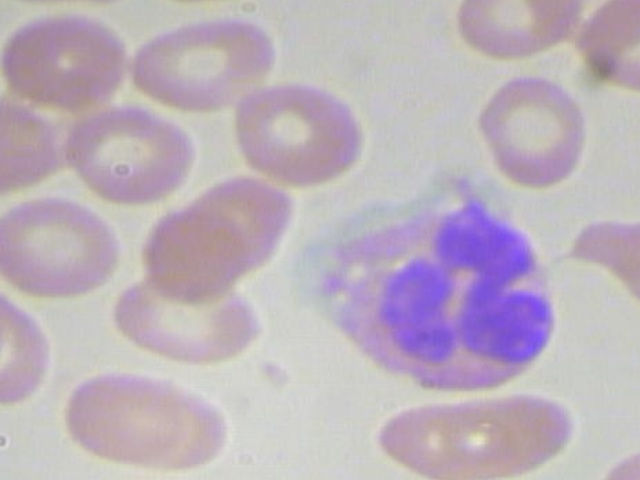RBC: (362, 387, 585, 480), (112, 1, 291, 113), (236, 68, 370, 192), (473, 66, 606, 190), (52, 357, 197, 469), (116, 195, 260, 307), (0, 189, 124, 301), (57, 104, 197, 201), (0, 8, 132, 105), (0, 96, 71, 193)
WBC: (294, 168, 560, 397)
